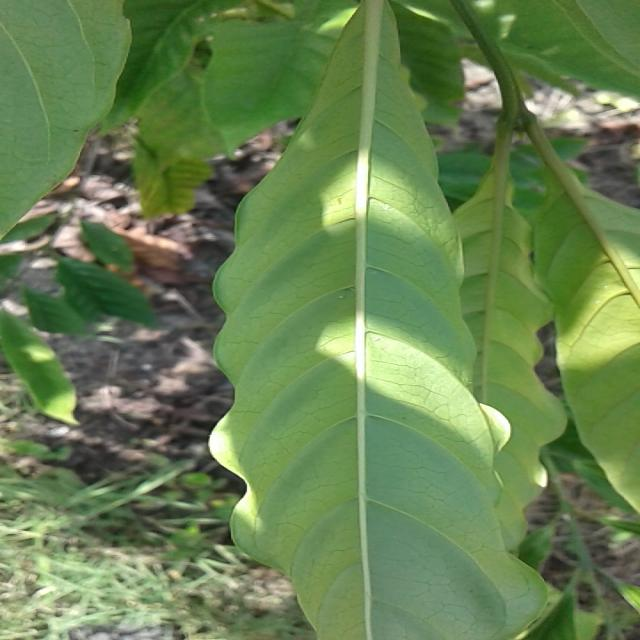Sanas: (208, 6, 555, 640)
